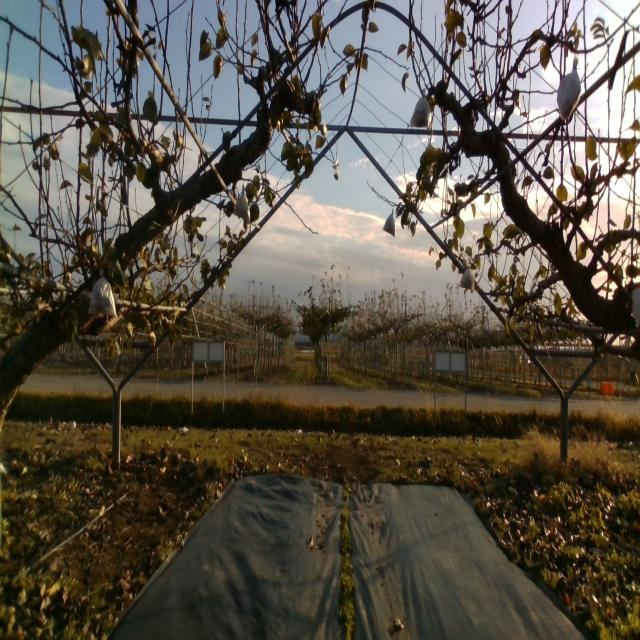pearbags: (556, 58, 581, 121), (88, 269, 118, 315), (410, 86, 432, 128), (233, 186, 251, 222), (458, 268, 476, 294), (383, 208, 396, 237)
